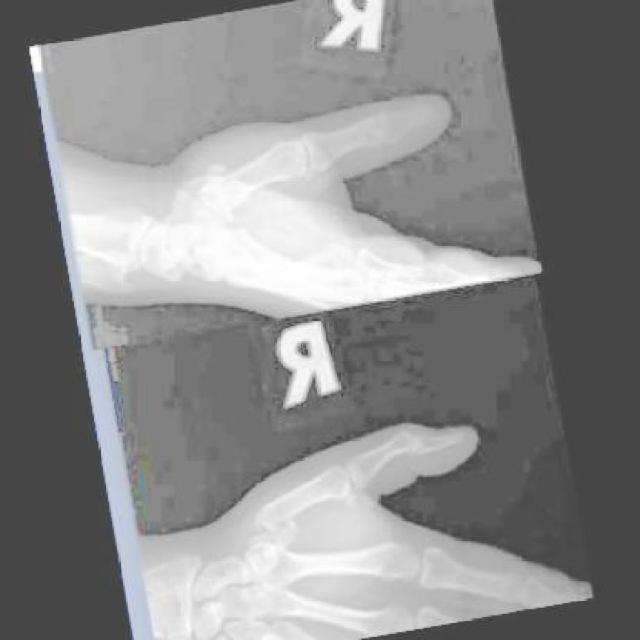Fracture: (179, 154, 244, 225), (246, 494, 309, 559)
